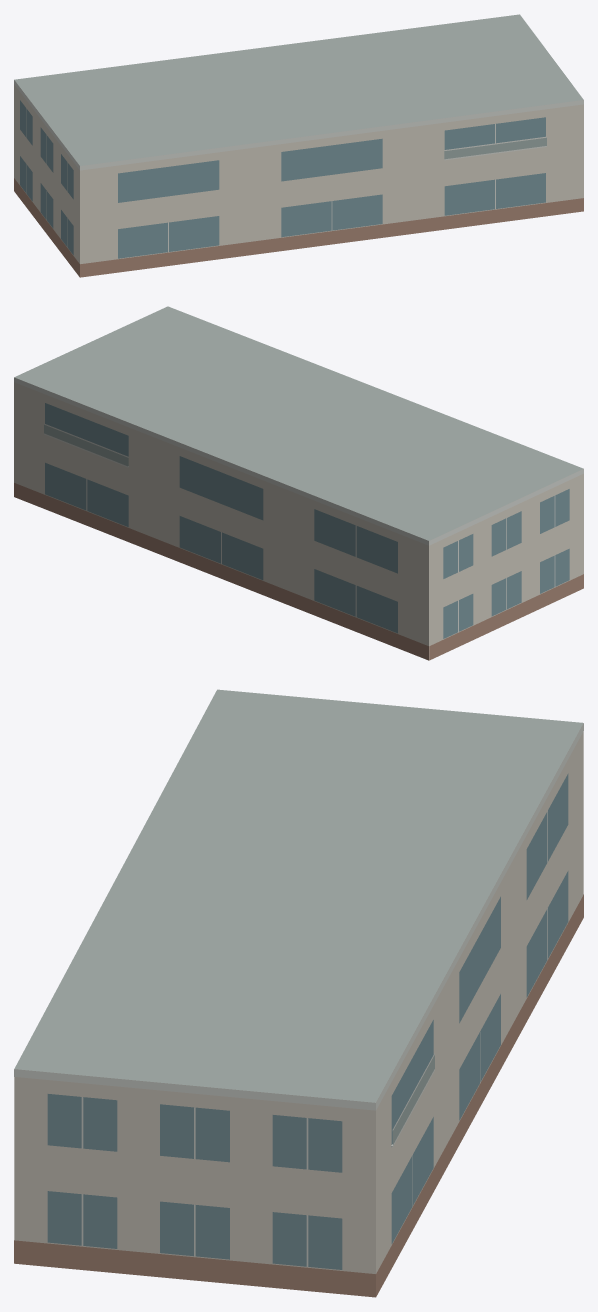
File: survey-upis-32859566.glb
3 views of the same model, one above another, from view 1: azimuth 30°, elevation 25°; view 2: azimuth 150°, elevation 25°; view 3: azimuth 270°, elevation 25° (orthographic). The views are drawn at different scales.
Visible parts, largest first — view 1: survey-upis-32859566.tmp; view 2: survey-upis-32859566.tmp; view 3: survey-upis-32859566.tmp.
Part boxes in pixels (x1,y1,x2,y2): survey-upis-32859566.tmp: [14, 14, 583, 277]; survey-upis-32859566.tmp: [14, 306, 583, 660]; survey-upis-32859566.tmp: [14, 689, 583, 1297].
Bounding box in the file's own units: 27.81 × 6.1 × 16.2.
